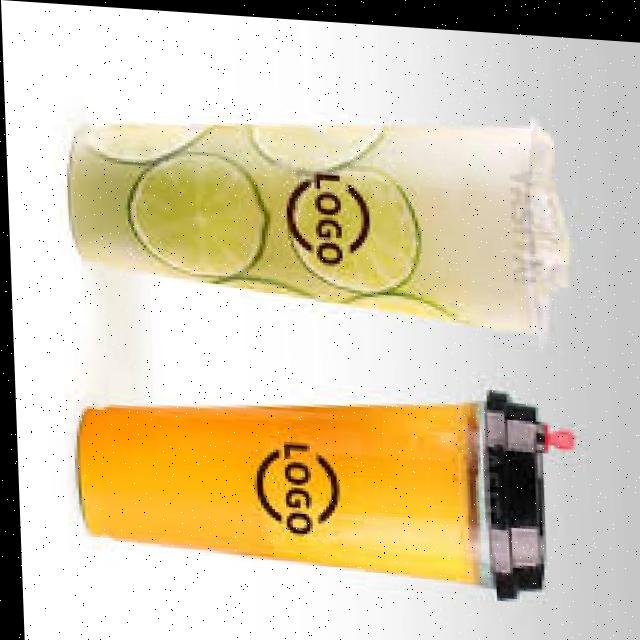cup: (69, 119, 567, 325), (75, 385, 541, 592)
